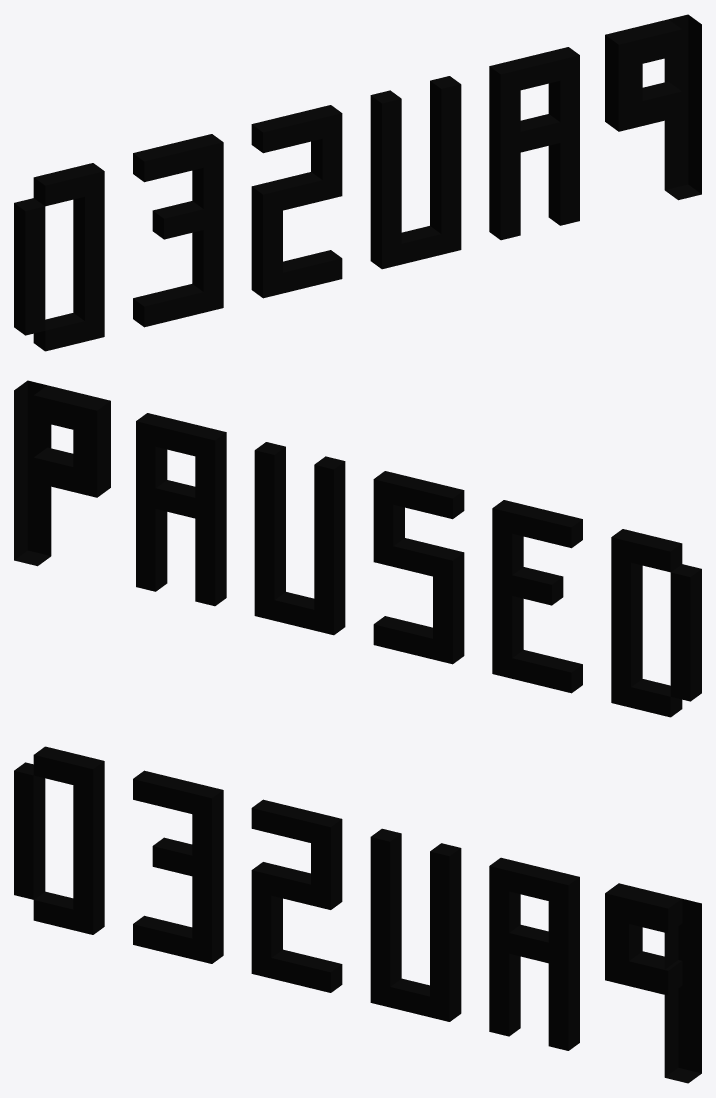
File: PausedModelShadow.gltf
3 renders of one model, top to bottom at view 1: azimuth 30°, elevation 25°; view 2: azimuth 150°, elevation 25°; view 3: azimuth 330°, elevation 25°, orthographic.
Visible parts, largest first — view 1: Back (×6), Front (×5), Bottom (×6), Top (×5), Middle (×2); view 2: Back (×6), Front (×5), Bottom (×6), Top (×5), Middle (×2); view 3: Back (×6), Front (×5), Bottom (×6), Top (×5), Middle (×2).
Boxes of the visible parts, x1,y1,x2,y2 form: Back (×6): (73,14,701,341); Front (×5): (14,57,642,335); Bottom (×6): (33,81,682,351); Top (×5): (33,19,682,206); Middle (×2): (152,172,322,239); Back (×6): (14,380,642,707); Front (×5): (73,422,701,701); Bottom (×6): (33,447,682,717); Top (×5): (33,385,682,572); Middle (×2): (393,538,563,605); Back (×6): (73,756,701,1083); Front (×5): (14,762,642,1036); Bottom (×6): (33,891,682,1017); Top (×5): (33,746,682,933); Middle (×2): (152,837,310,905).
Size of the model in its own units: 4.26 by 1.03 by 0.15.
1 material, 1 textured.
